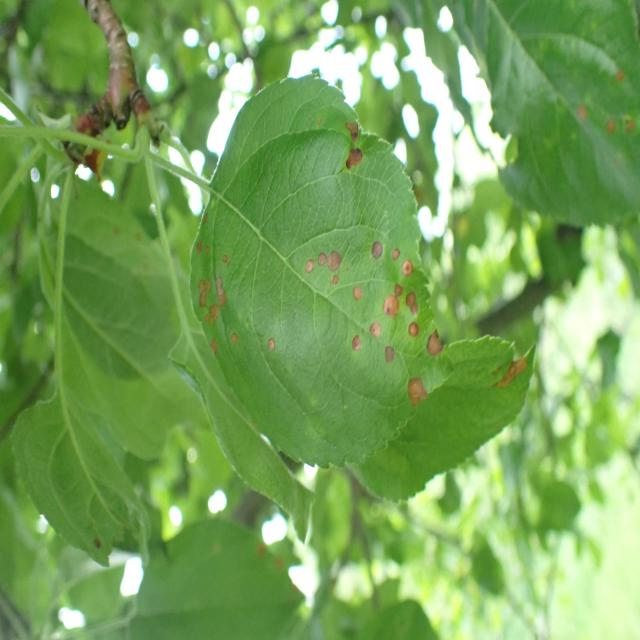frog-eye-leaf-spot: (188, 72, 454, 470), (483, 0, 640, 231), (348, 335, 536, 504)
